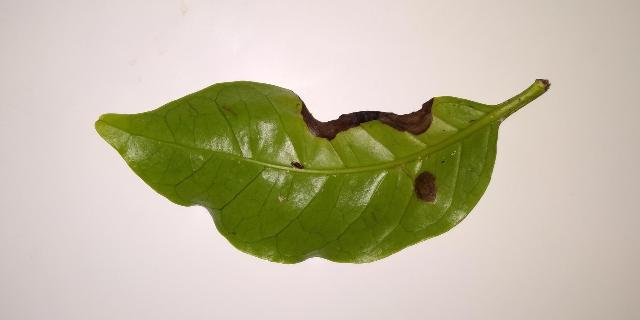rust: (294, 93, 434, 141), (414, 172, 436, 202), (292, 162, 303, 169)
